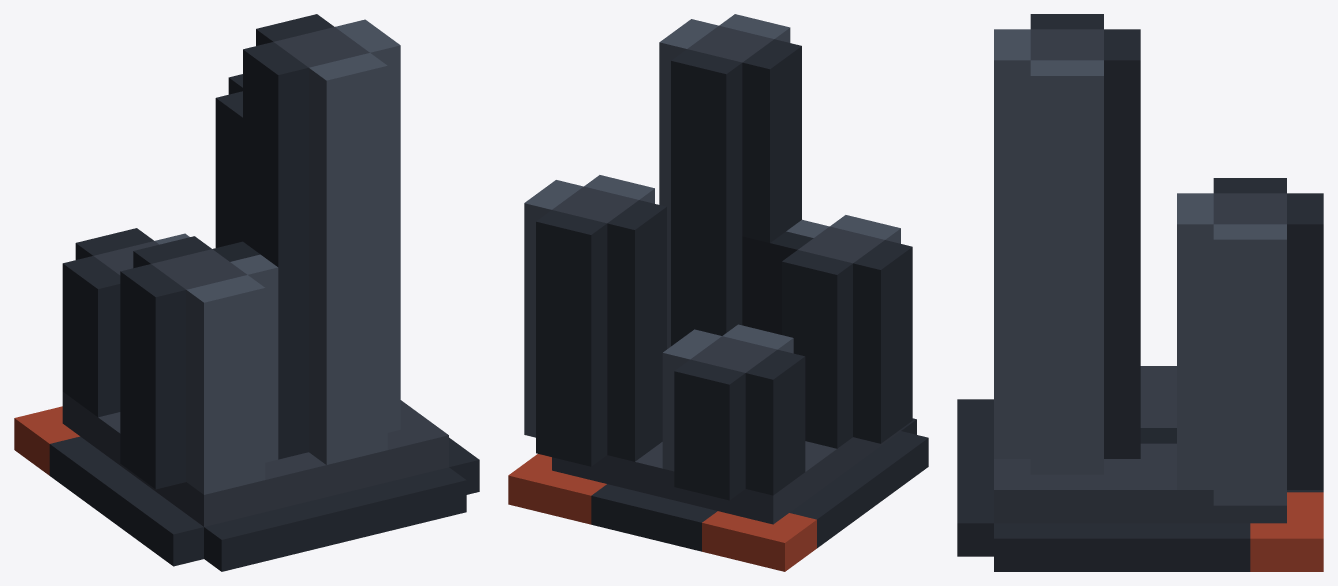
Rendered from basalt_column_cluster.glb.
The picture shows the model from 3 angles, left to right: view 1: azimuth 30°, elevation 25°; view 2: azimuth 150°, elevation 25°; view 3: azimuth 270°, elevation 25°; orthographic projection. The views are drawn at different scales.
Visible parts, largest first — view 1: rock; view 2: rock; view 3: rock.
Boxes of the visible parts, left/top/right/bottom form: rock: left=14, top=14, right=479, bottom=571; rock: left=508, top=14, right=928, bottom=571; rock: left=957, top=14, right=1323, bottom=571.
Size of the model in its own units: 10 by 14 by 10.
